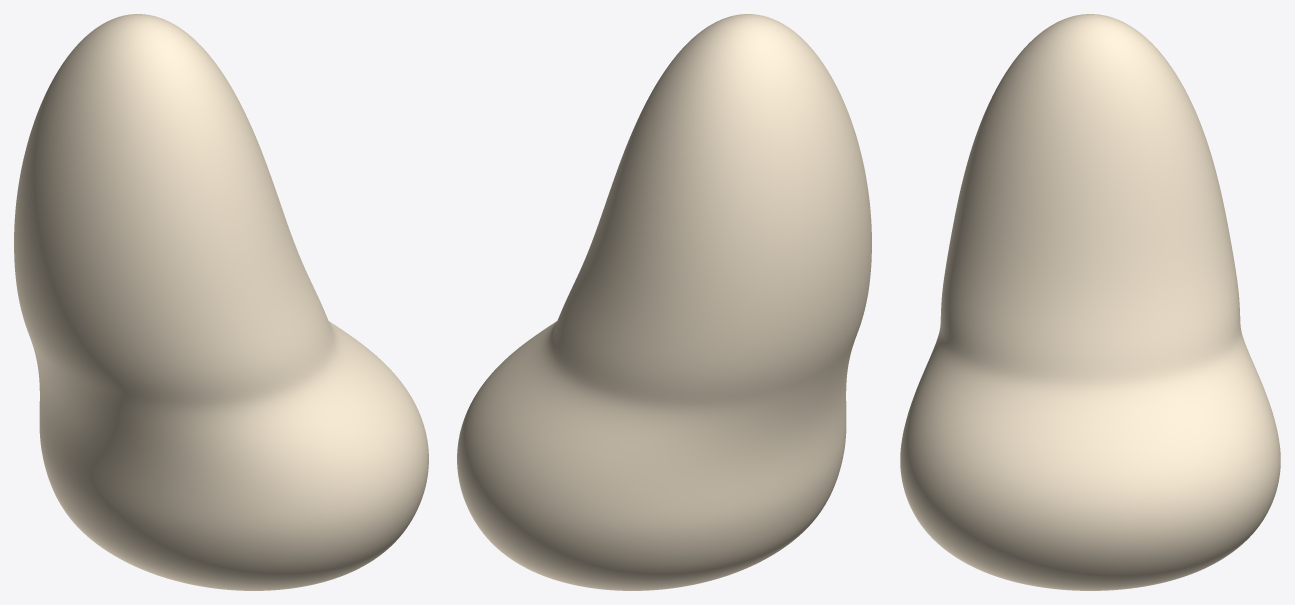
File: leg-right.glb
3 views of the same model, side by side, from view 1: azimuth 30°, elevation 25°; view 2: azimuth 150°, elevation 25°; view 3: azimuth 270°, elevation 25° (orthographic). The views are drawn at different scales.
Visible parts, largest first — view 1: Leg_R; view 2: Leg_R; view 3: Leg_R.
Boxes of the visible parts, bbox=[...] form: Leg_R: bbox=[14, 14, 428, 590]; Leg_R: bbox=[457, 14, 871, 590]; Leg_R: bbox=[900, 14, 1280, 590].
Size of the model in its own units: 22.59 by 33.02 by 23.
